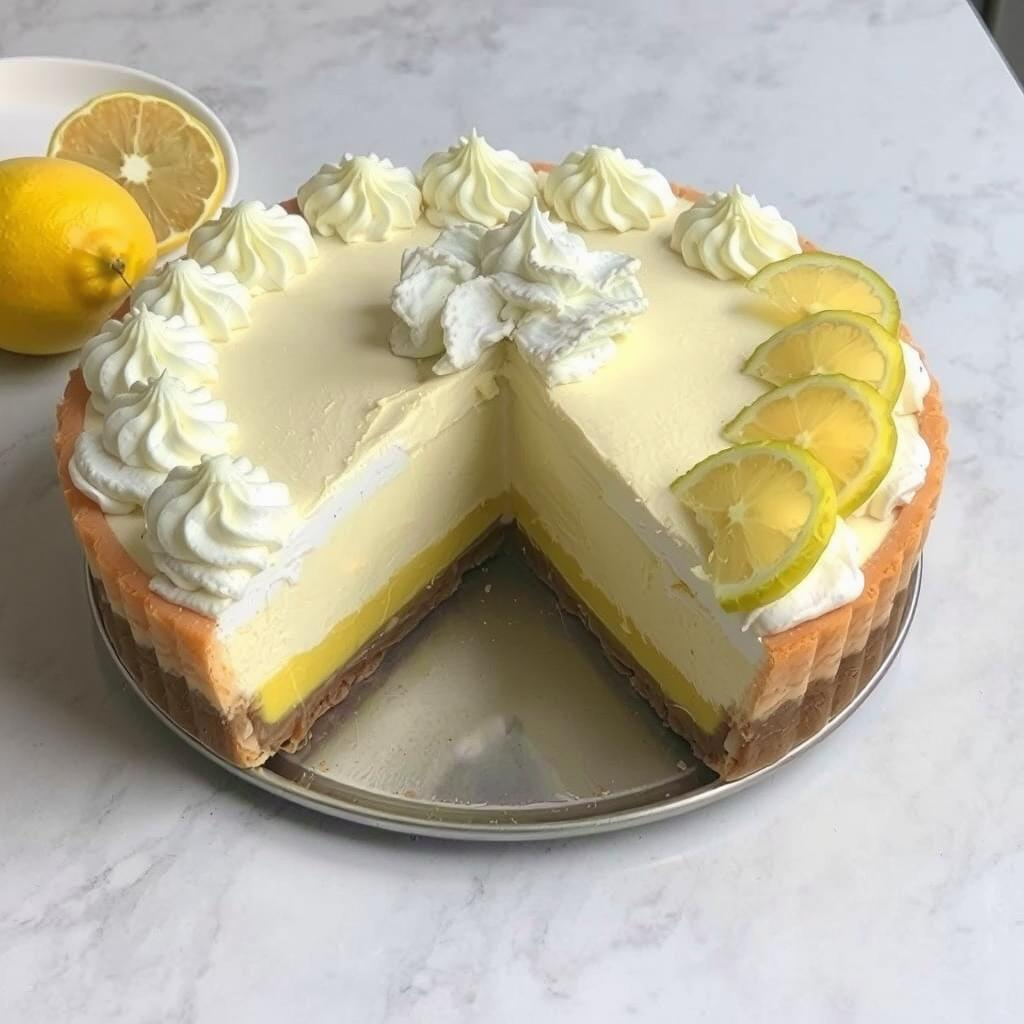pie: (50, 119, 957, 804)
